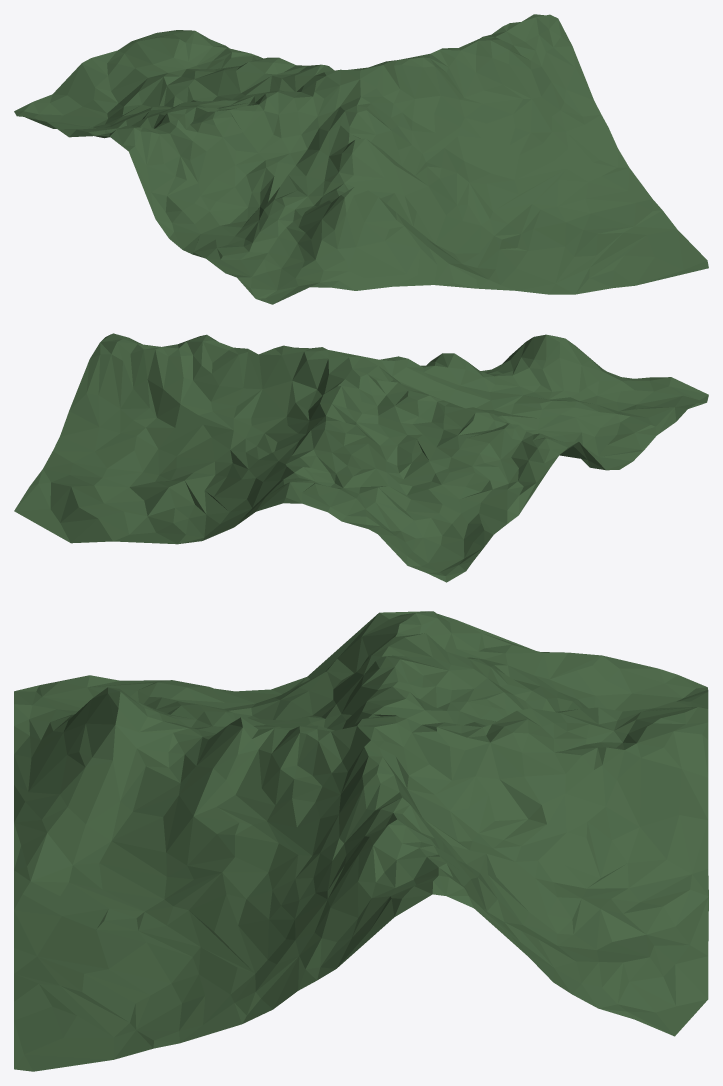
Rendered from SM_landscape_02.fbx.
3 views of the same model, one above another, from view 1: azimuth 30°, elevation 25°; view 2: azimuth 150°, elevation 25°; view 3: azimuth 270°, elevation 25° (orthographic). The views are drawn at different scales.
Parts seen in each view (by area): view 1: landscape_02; view 2: landscape_02; view 3: landscape_02.
Boxes of the visible parts, left/top/right/bottom form: landscape_02: left=14, top=14, right=708, bottom=304; landscape_02: left=14, top=333, right=708, bottom=582; landscape_02: left=14, top=611, right=708, bottom=1071.
Size of the model in its own units: 880 by 285 by 881.
